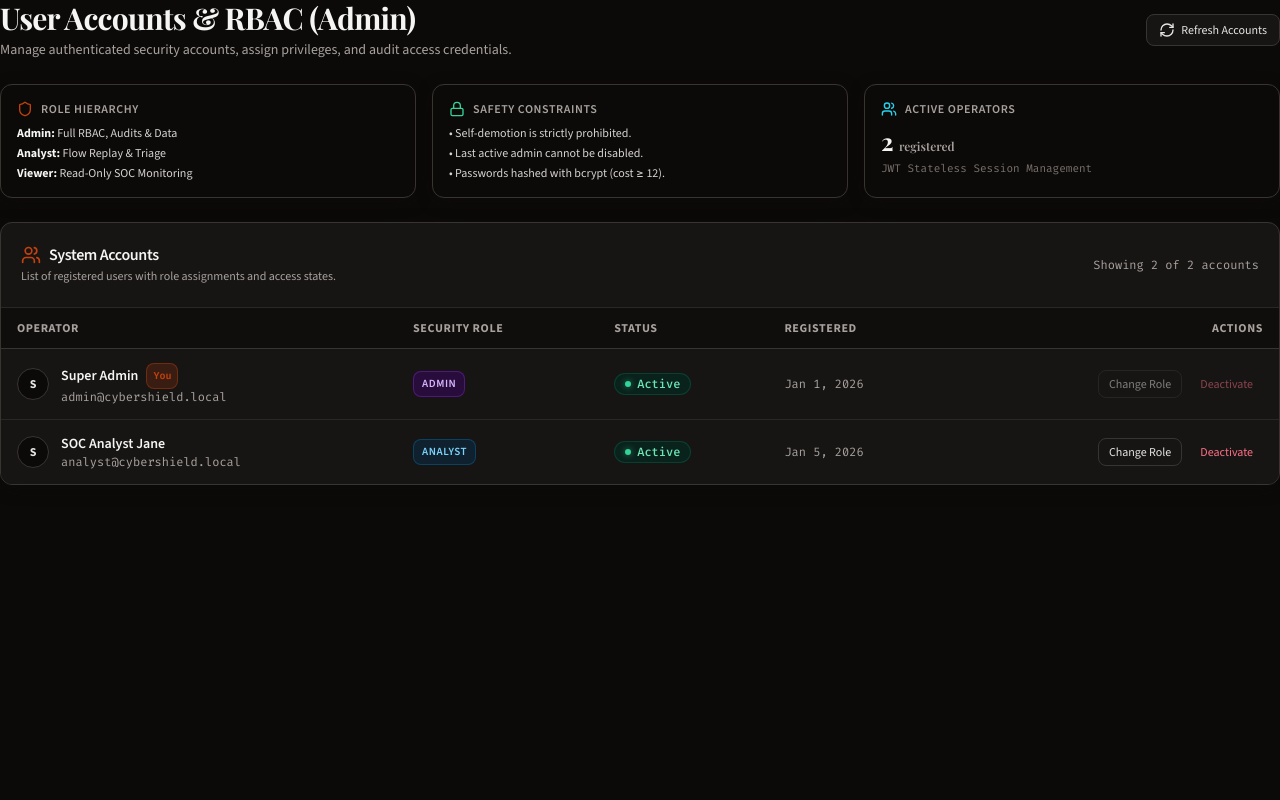
Test: Admin Console Features (Phase 10) › UsersPage Component › opens role change modal and updates user role
The width and height of the screenshot is (1280, 800).
Later steps or results of the test are not shown.
Expected: the text "SOC Analyst Jane" is shown, [61, 434, 165, 454]
Click the button "Change Role" in the row of "SOC Analyst Jane" at point(1140, 452), box [1098, 438, 1182, 466]
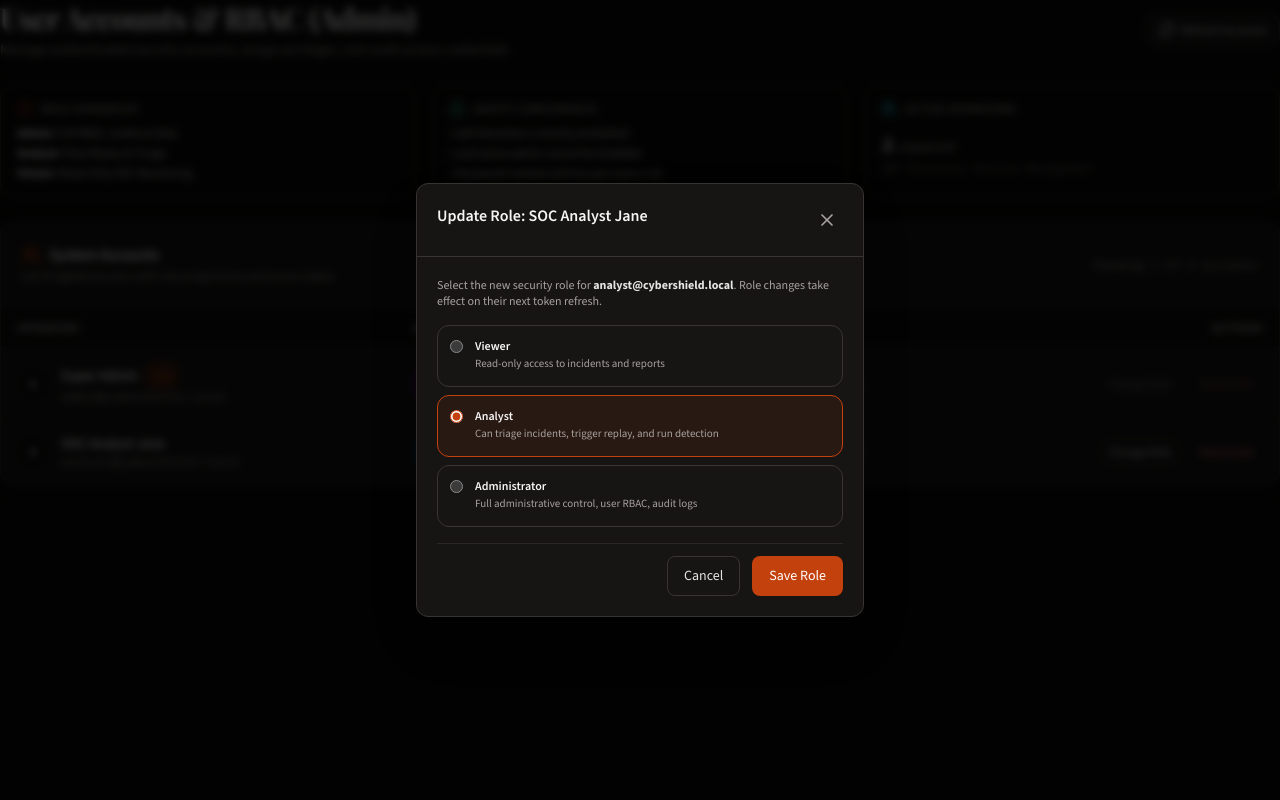
Expected: the heading "Update Role: SOC Analyst Jane" is shown, [437, 204, 648, 228]
Expected: the text "Save Role" is shown, [769, 566, 826, 586]
